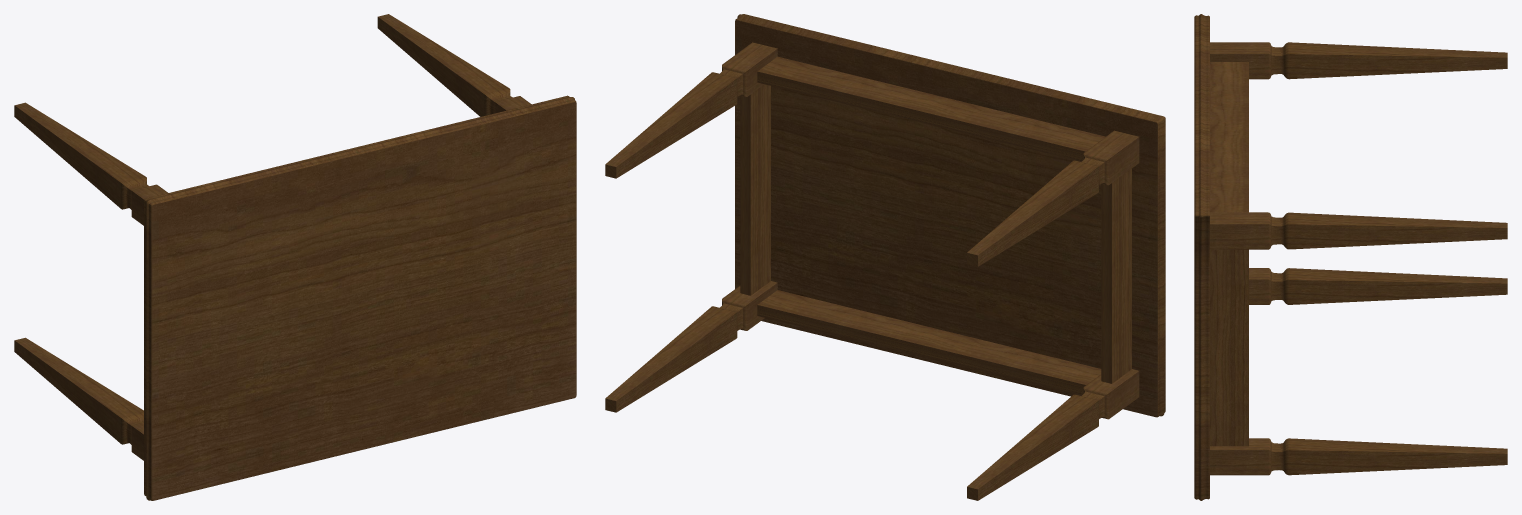
The model's file is table.obj.
The picture shows the model from 3 angles, left to right: view 1: azimuth 30°, elevation 25°; view 2: azimuth 150°, elevation 25°; view 3: azimuth 270°, elevation 25°; orthographic projection. The views are drawn at different scales.
Visible parts, largest first — view 1: Rectangle1, Loft01, Line03, Line04, Line02; view 2: Rectangle1, Rectangle0, Rectangle4, Loft01, Line03, Line04, Line02, Rectangle2, Rectangle3, Line01; view 3: Line02, Line01, Line03, Loft01, Rectangle3, Line04, Rectangle0, Rectangle1.
Boxes of the visible parts, x1,y1,x2,y2 form: Rectangle1: (152, 102, 576, 500); Loft01: (144, 95, 576, 500); Line03: (14, 102, 167, 225); Line04: (14, 337, 143, 460); Line02: (377, 14, 531, 116); Rectangle1: (735, 20, 1157, 416); Rectangle0: (757, 56, 1105, 161); Rectangle4: (757, 290, 1101, 394); Loft01: (735, 14, 1165, 417); Line03: (967, 130, 1139, 266); Line04: (967, 369, 1139, 500); Line02: (605, 42, 777, 178); Rectangle2: (1101, 168, 1131, 383); Rectangle3: (740, 84, 770, 295); Line01: (605, 281, 777, 412); Line02: (1210, 212, 1507, 249); Line01: (1210, 438, 1507, 475); Line03: (1210, 42, 1507, 79); Loft01: (1194, 14, 1209, 500); Rectangle3: (1210, 249, 1248, 446); Line04: (1249, 268, 1507, 304); Rectangle0: (1210, 62, 1248, 212); Rectangle1: (1194, 17, 1209, 497).
Size of the model in its own units: 1213 by 813 by 800.
1 material, 1 textured.
